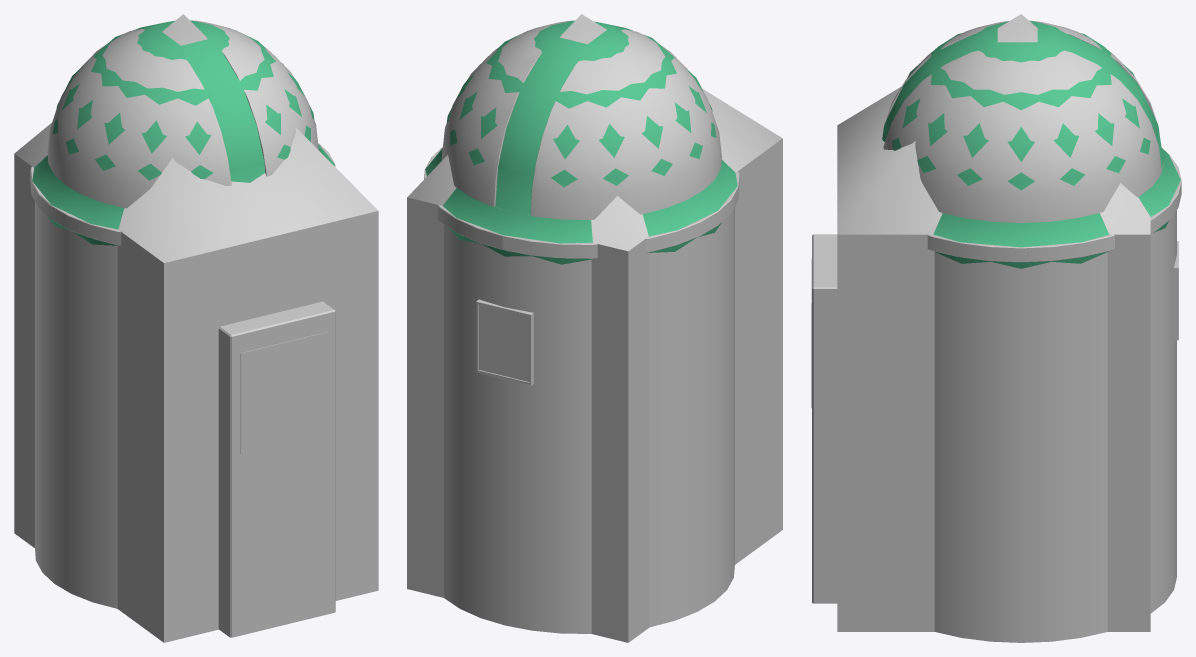
Rendered from jri_observatory_small.dae.
3 renders of one model, left to right at view 1: azimuth 30°, elevation 25°; view 2: azimuth 150°, elevation 25°; view 3: azimuth 270°, elevation 25°, orthographic. The views are drawn at different scales.
Parts seen in each view (by area): view 1: ind_bld_a30, ind_bld_a500, Colmesh-1, ind_bld_a70; view 2: ind_bld_a500, ind_bld_a30, Colmesh-1, ind_bld_a70; view 3: ind_bld_a500, ind_bld_a30, Colmesh-1.
Part boxes in pixels (x1,y1,x2,y2): ind_bld_a30: [14, 14, 378, 642]; ind_bld_a500: [30, 20, 335, 637]; Colmesh-1: [32, 20, 334, 245]; ind_bld_a70: [167, 43, 327, 453]; ind_bld_a500: [424, 20, 739, 633]; ind_bld_a30: [407, 14, 782, 642]; Colmesh-1: [425, 20, 737, 264]; ind_bld_a70: [476, 21, 632, 385]; ind_bld_a500: [811, 20, 1181, 642]; ind_bld_a30: [837, 14, 1150, 631]; Colmesh-1: [882, 21, 1180, 268].
Size of the model in its own units: 6.09 by 7.03 by 11.79.
